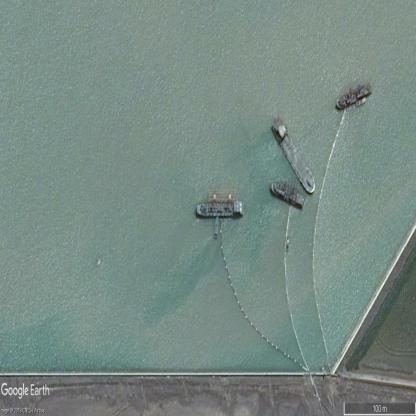ship: (269, 114, 319, 200), (270, 176, 306, 211), (336, 79, 373, 110), (192, 200, 244, 220)
